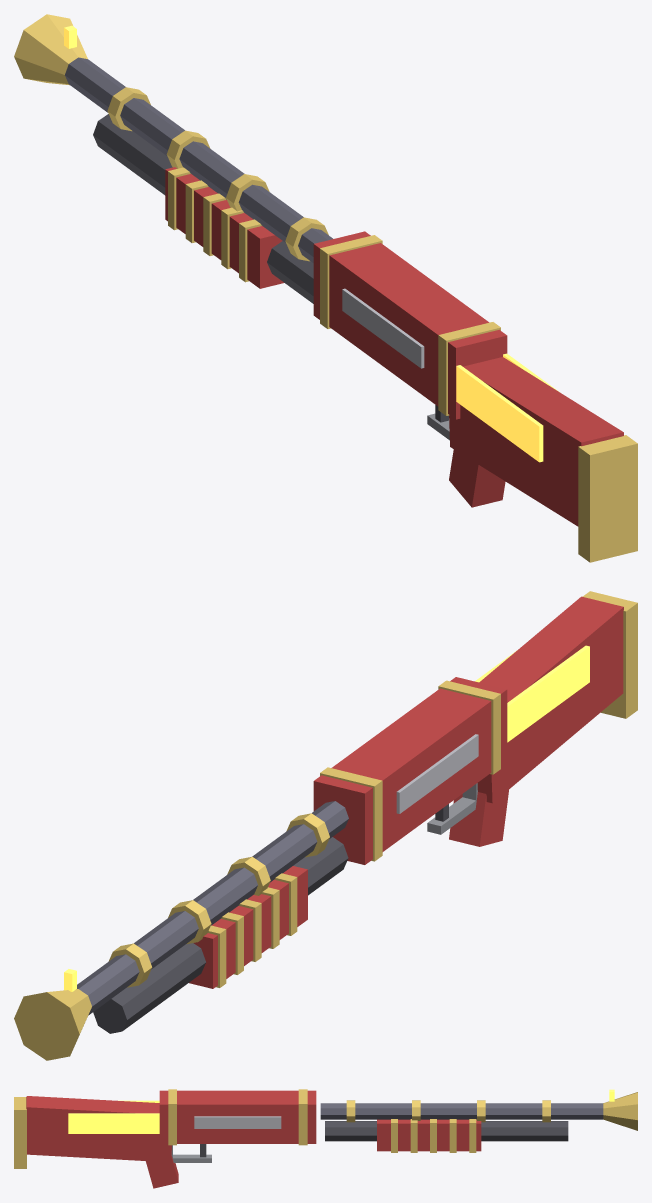
Rendered from shotgun_mythic.glb.
The picture shows the model from 3 angles, top to bottom: view 1: azimuth 30°, elevation 25°; view 2: azimuth 150°, elevation 25°; view 3: azimuth 270°, elevation 25°; orthographic projection. The views are drawn at different scales.
Visible parts, largest first — view 1: DragonbreathShotgun; view 2: DragonbreathShotgun; view 3: DragonbreathShotgun.
Boxes of the visible parts, x1=… form: DragonbreathShotgun: x1=14, y1=14, x2=637, y2=562; DragonbreathShotgun: x1=14, y1=591, x2=637, y2=1060; DragonbreathShotgun: x1=14, y1=1089, x2=637, y2=1188.
Size of the model in its own units: 0.096 by 0.2381 by 1.43.
